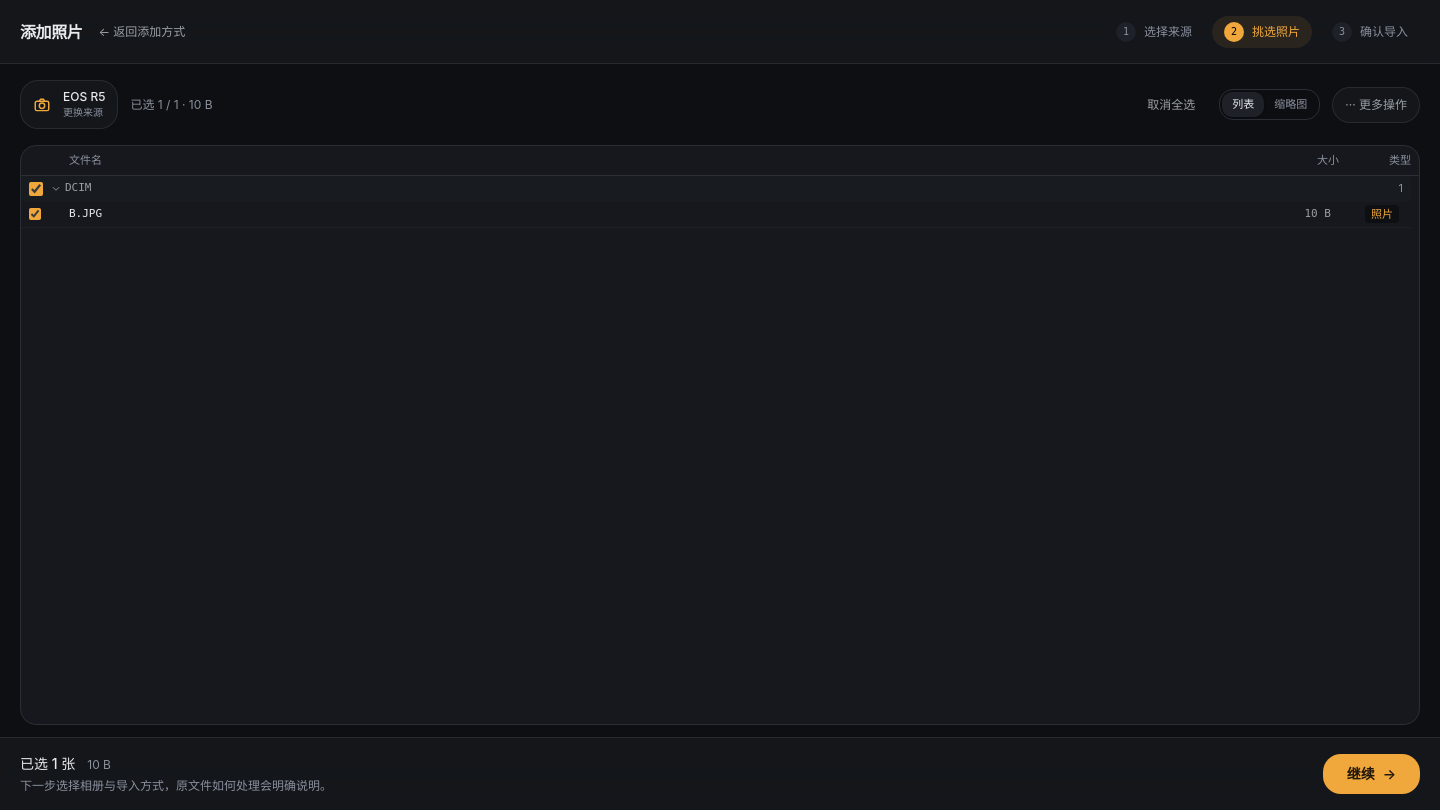
Test: 挑选步：列表与网格 › 没有对象 ID 的旧 MTP 清单保持明确占位，不错误请求本地路径
Click the radio button with test id "wizard-view-grid".
click(1291, 105)  # box [1264, 92, 1317, 117]
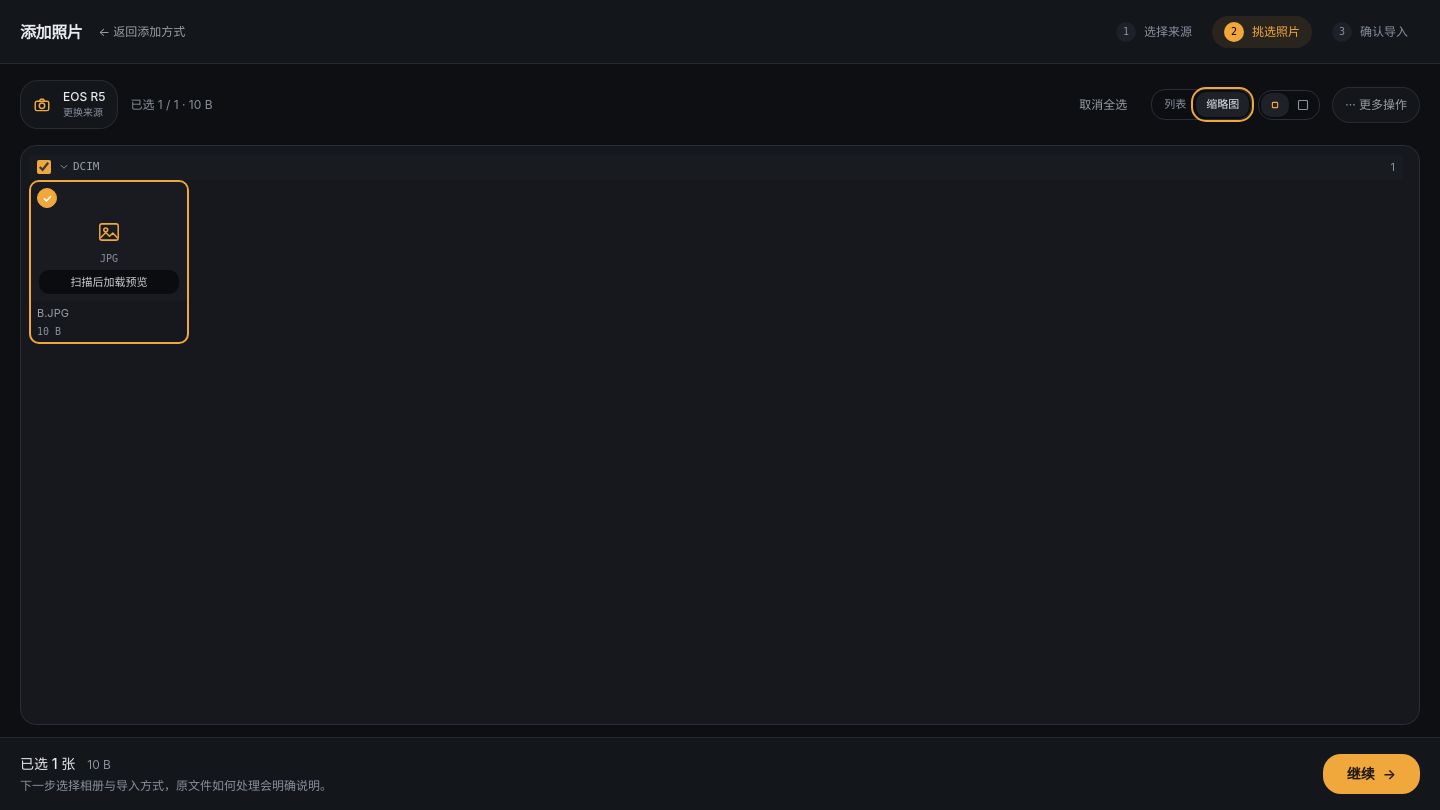
Now the element with test id "tile-photo" is shown, box [96, 218, 122, 264]
